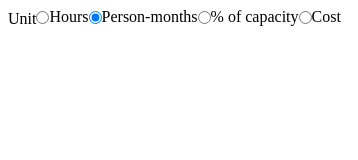
Test case: UnitSwitcher › writes the chosen unit to ?unit= and nothing to the server
Step 1. Click the radio button labelled "Cost" → {"x": 305, "y": 17}, box [298,10,312,24]
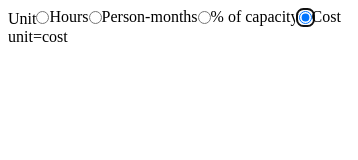
expect the radio button labelled "Cost" is checked: met, box [298,10,312,24]
expect the text named "search" reads "unit=cost": met, box [8,28,68,44]
